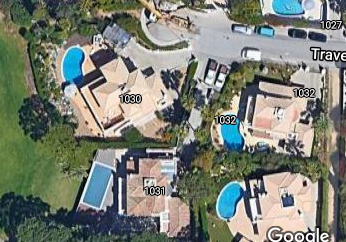pool: (85, 169, 113, 200), (218, 184, 242, 220), (65, 51, 85, 87), (222, 117, 243, 146), (269, 3, 309, 16)
